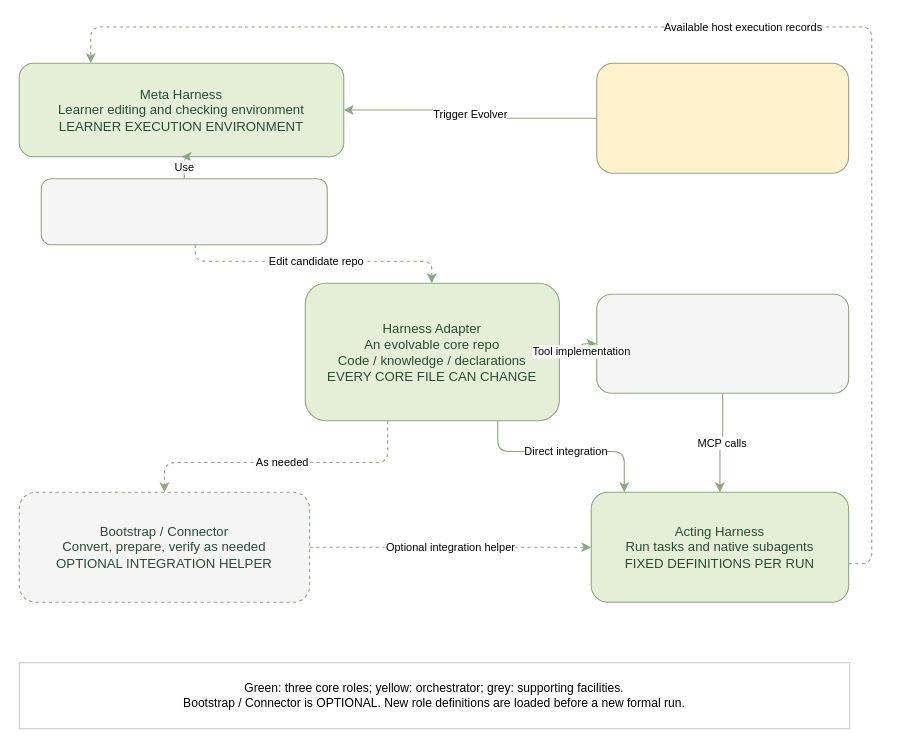
Some shapes in this 900 by 748 pixel diagram are drawn without their labels. Each missing label, with the centre of its shape:
Default Manager CLI update orchestration SHARED SDK CALLER: point (722, 117)
Evolver Learning algorithm · Uses Meta Harness: point (183, 211)
Framework Runtime Load declarations; expose MCP WRAPPER OUTSIDE ADAPTER: point (722, 343)
